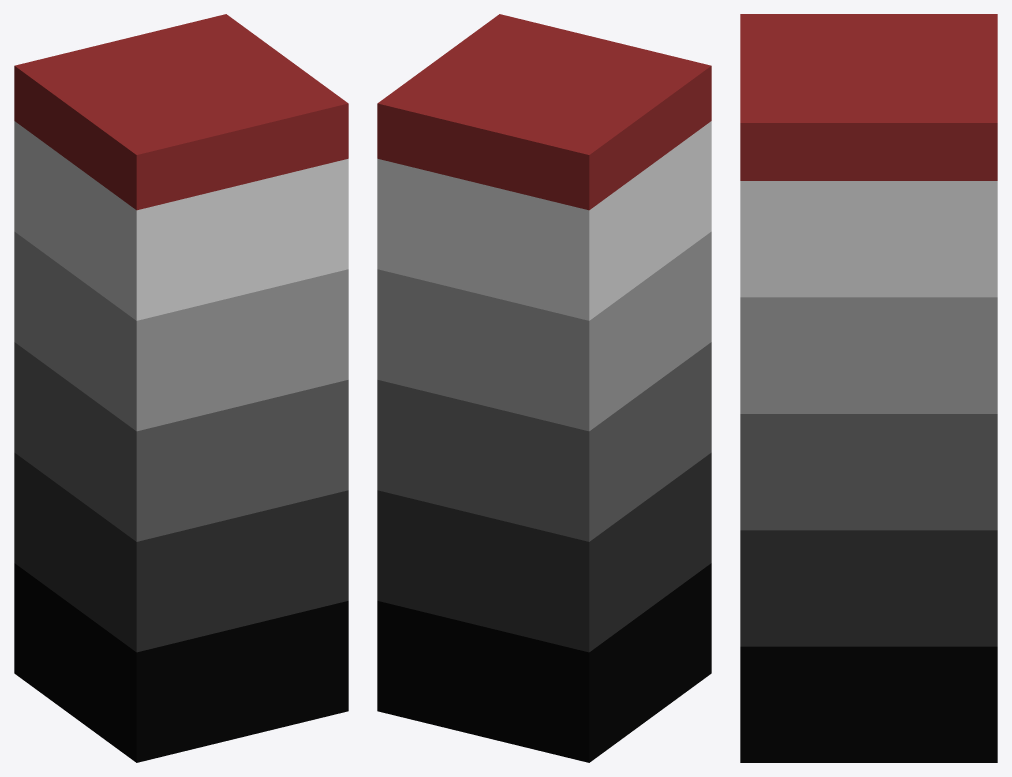
File: person.fbx
The picture shows the model from 3 angles, left to right: view 1: azimuth 30°, elevation 25°; view 2: azimuth 150°, elevation 25°; view 3: azimuth 270°, elevation 25°; orthographic projection. The views are drawn at different scales.
Visible parts, largest first — view 1: bipedStandin_fiveFootSix; view 2: bipedStandin_fiveFootSix; view 3: bipedStandin_fiveFootSix.
Boxes of the visible parts, x1,y1,x2,y2 form: bipedStandin_fiveFootSix: (14,14,348,762); bipedStandin_fiveFootSix: (377,14,711,762); bipedStandin_fiveFootSix: (740,14,997,762).
Bounding box in the file's own units: 61.13 × 168 × 61.07.
